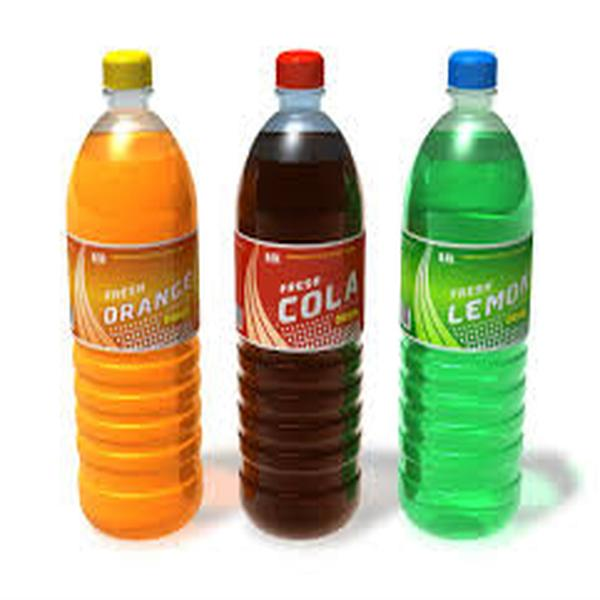tutuma: (62, 40, 206, 563), (396, 41, 543, 540), (235, 43, 369, 552)
